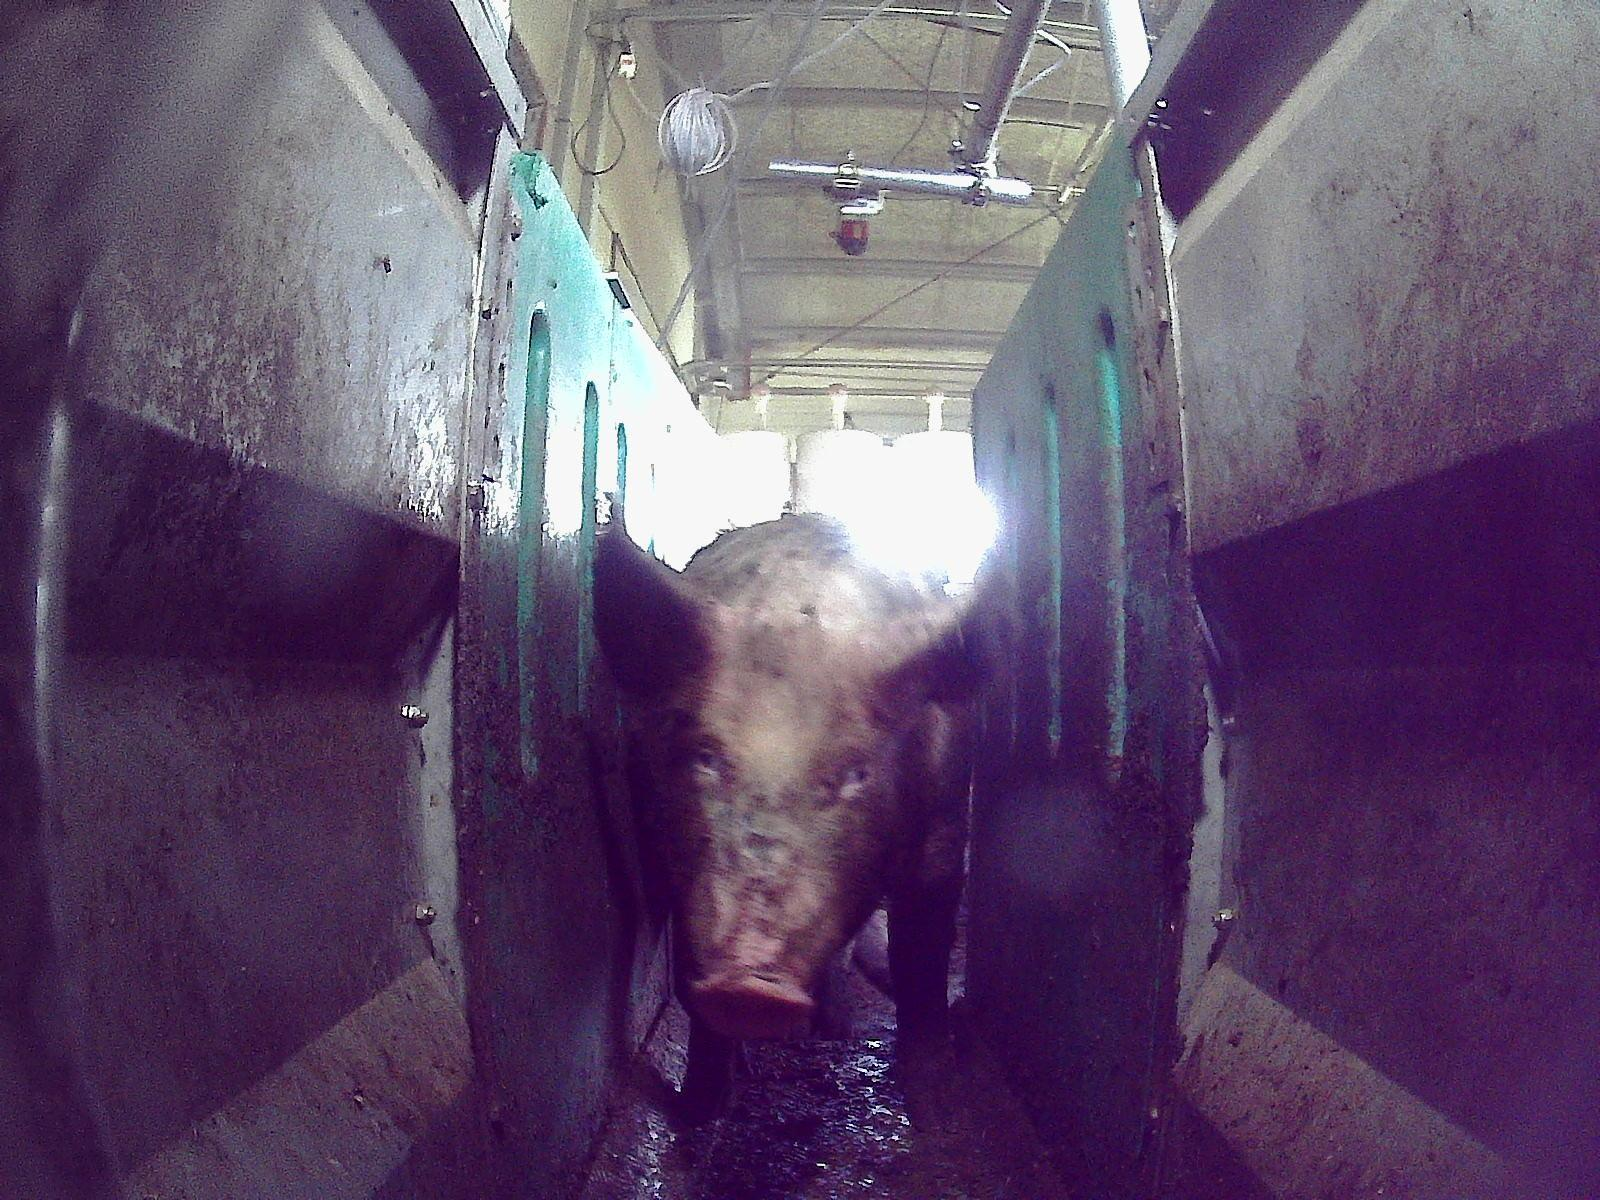Face: (642, 632, 905, 1038)
